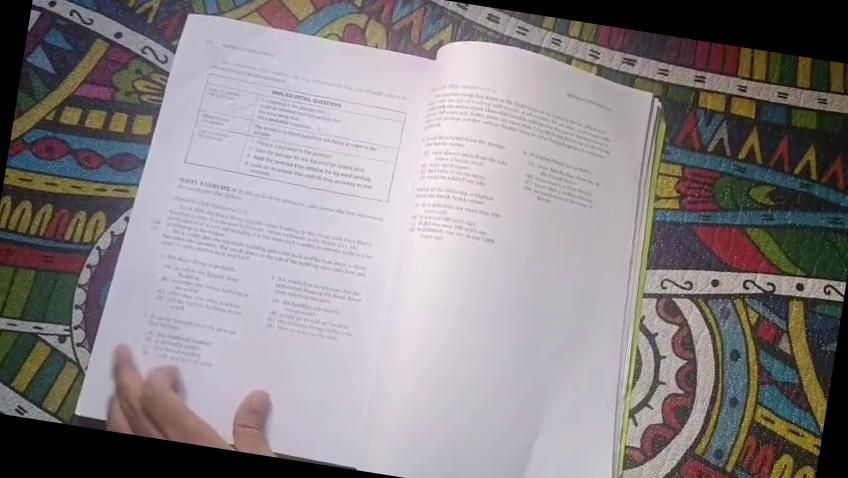Kertas: (140, 15, 480, 402), (366, 61, 654, 478)
